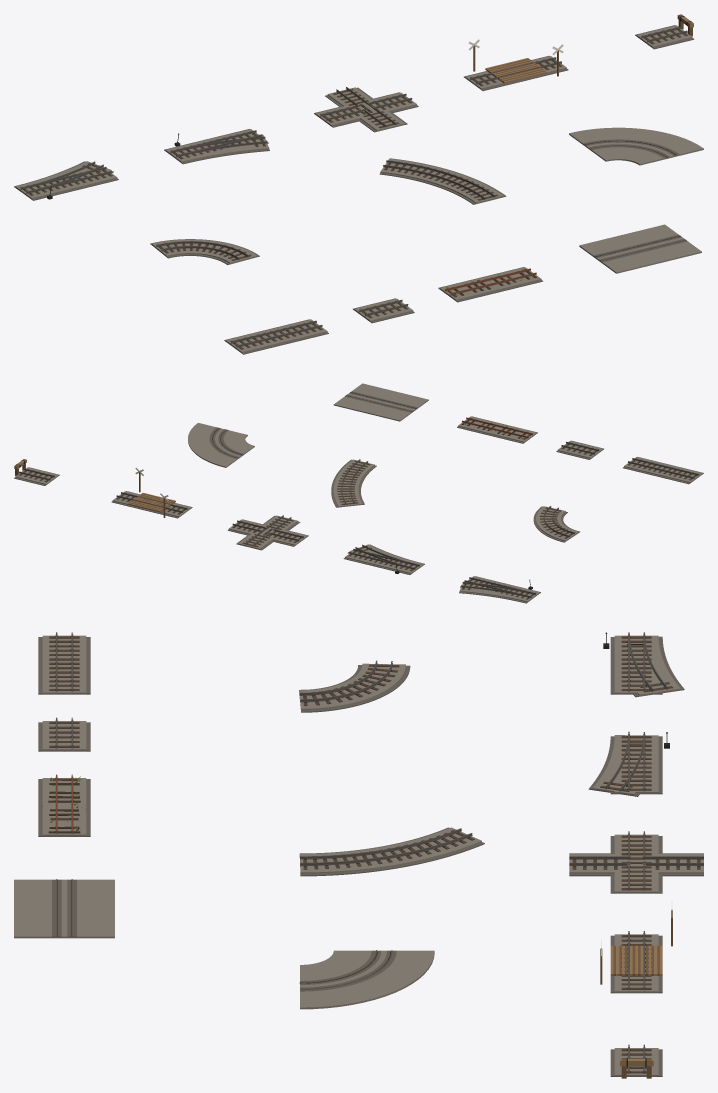
Rendered from rieles.glb.
3 renders of one model, top to bottom at view 1: azimuth 30°, elevation 25°; view 2: azimuth 150°, elevation 25°; view 3: azimuth 270°, elevation 25°, orthographic. The views are drawn at different scales.
Parts seen in each view (by area): view 1: riel_calle_recta_Adoquin, riel_calle_curva_Adoquin, riel_cruce_Balasto, riel_curva_suave_Balasto, riel_desvio_izq_Balasto, riel_desvio_der_Balasto, riel_recta_gastada_Balasto, riel_curva_Balasto, riel_recta_Balasto, riel_desvio_der_Riel, riel_cruce_Riel, riel_desvio_izq_Riel (+7 smaller); view 2: riel_calle_recta_Adoquin, riel_calle_curva_Adoquin, riel_cruce_Balasto, riel_curva_suave_Balasto, riel_desvio_der_Balasto, riel_desvio_izq_Balasto, riel_recta_gastada_Balasto, riel_curva_Balasto, riel_recta_Balasto, riel_curva_suave_Durmiente, riel_desvio_izq_Riel, riel_cruce_Riel (+6 smaller); view 3: riel_calle_curva_Adoquin, riel_calle_recta_Adoquin, riel_cruce_Balasto, riel_curva_suave_Balasto, riel_desvio_izq_Balasto, riel_desvio_der_Balasto, riel_recta_gastada_Balasto, riel_recta_Balasto, riel_curva_Balasto, riel_curva_suave_Riel, riel_paso_nivel_Balasto, riel_cruce_Durmiente (+14 smaller).
Boxes of the visible parts, x1,y1,x2,y2 form: riel_calle_recta_Adoquin: (579,224,701,273); riel_calle_curva_Adoquin: (569,127,703,165); riel_cruce_Balasto: (315,87,416,131); riel_curva_suave_Balasto: (380,158,503,204); riel_desvio_izq_Balasto: (15,161,117,199); riel_desvio_der_Balasto: (165,129,269,162); riel_recta_gastada_Balasto: (440,267,541,300); riel_curva_Balasto: (151,239,257,264); riel_recta_Balasto: (226,319,327,353); riel_desvio_der_Riel: (170,130,267,157); riel_cruce_Riel: (320,87,412,127); riel_desvio_izq_Riel: (20,161,112,193); riel_calle_recta_Adoquin: (333,383,428,421); riel_calle_curva_Adoquin: (188,423,254,467); riel_cruce_Balasto: (229,515,307,549); riel_curva_suave_Balasto: (333,459,374,507); riel_desvio_der_Balasto: (345,544,423,573); riel_desvio_izq_Balasto: (459,576,539,601); riel_recta_gastada_Balasto: (458,416,536,442); riel_curva_Balasto: (536,506,578,541); riel_recta_Balasto: (624,457,702,482); riel_curva_suave_Durmiente: (337,460,370,504); riel_desvio_izq_Riel: (461,577,535,597); riel_cruce_Riel: (232,515,303,546); riel_calle_curva_Adoquin: (300,950,434,1009); riel_calle_recta_Adoquin: (14,879,114,938); riel_cruce_Balasto: (569,834,703,893); riel_curva_suave_Balasto: (299,827,481,873); riel_desvio_izq_Balasto: (614,635,680,696); riel_desvio_der_Balasto: (592,735,658,796); riel_recta_gastada_Balasto: (42,778,86,836); riel_recta_Balasto: (42,635,86,694); riel_curva_Balasto: (299,663,405,709); riel_curva_suave_Riel: (300,828,472,865); riel_paso_nivel_Balasto: (614,934,658,993); riel_cruce_Durmiente: (572,835,700,890).
Bounding box in the file's own units: 62.06 × 2.87 × 41.
